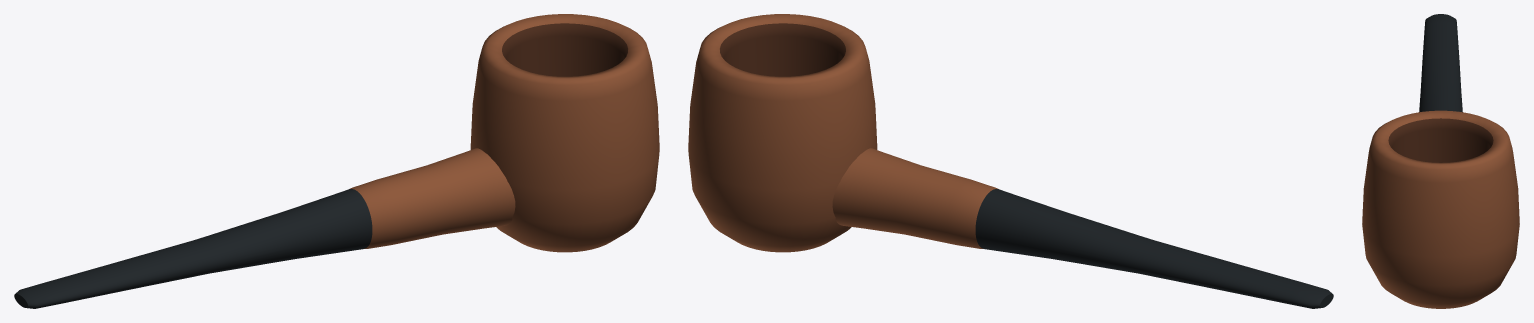
File: A-NEW-20261027-SMOKING-PIPE-001_LOD1_R1.glb
3 renders of one model, left to right at view 1: azimuth 30°, elevation 25°; view 2: azimuth 150°, elevation 25°; view 3: azimuth 270°, elevation 25°, orthographic. The views are drawn at different scales.
Visible parts, largest first — view 1: open hollow pipe bowl, long tapered flattened mouthpiece, fixed lateral rounded shank; view 2: open hollow pipe bowl, long tapered flattened mouthpiece, fixed lateral rounded shank; view 3: open hollow pipe bowl, long tapered flattened mouthpiece.
Part boxes in pixels (x1,y1,x2,y2): open hollow pipe bowl: (470, 14, 659, 252); long tapered flattened mouthpiece: (14, 189, 372, 308); fixed lateral rounded shank: (350, 148, 515, 248); open hollow pipe bowl: (688, 14, 877, 252); long tapered flattened mouthpiece: (975, 189, 1333, 308); fixed lateral rounded shank: (832, 148, 997, 248); open hollow pipe bowl: (1362, 110, 1519, 308); long tapered flattened mouthpiece: (1419, 14, 1462, 112).
Bounding box in the file's own units: 0.183 × 0.0535 × 0.048.
